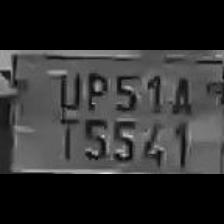1: (167, 116, 193, 170), (140, 71, 164, 116)
4: (138, 116, 166, 166)
5: (109, 66, 141, 112), (78, 114, 108, 160), (107, 116, 136, 162)
A: (165, 70, 193, 118)
P: (80, 68, 108, 113)
T: (51, 110, 79, 162)
U: (54, 67, 82, 115)
